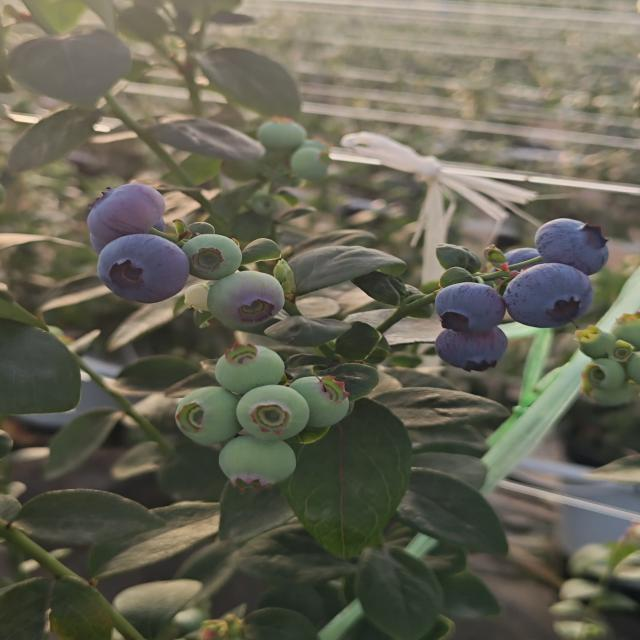ripe: (93, 232, 192, 305), (502, 261, 596, 330), (84, 182, 168, 254), (430, 280, 509, 340), (532, 216, 611, 276), (431, 322, 515, 377)
